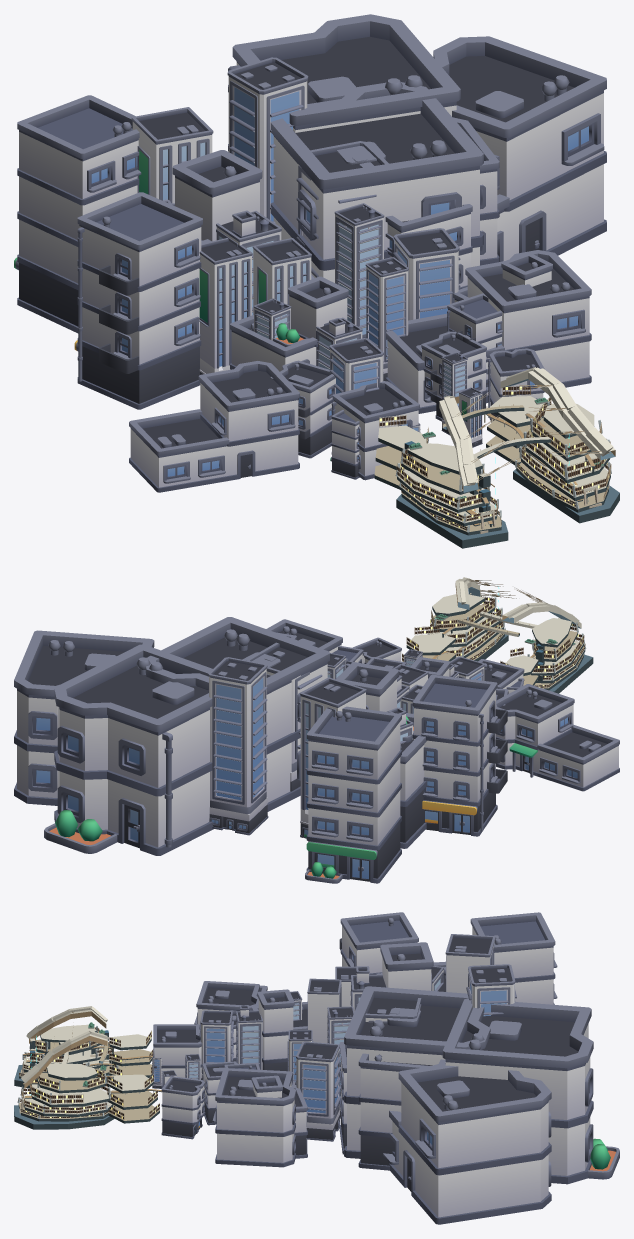
The model's file is G4E7BX_CC0_URBAN_DEPTH_ONLY.glb.
3 renders of one model, top to bottom at view 1: azimuth 30°, elevation 25°; view 2: azimuth 150°, elevation 25°; view 3: azimuth 270°, elevation 25°, orthographic. The views are drawn at different scales.
Parts seen in each view (by area): view 1: Kenney original building-e / articulated site 27, Kenney original building-g / articulated site 32, Kenney original building-c / articulated site 15, Kenney original building-f / articulated site 28, Kenney original building-e / articulated site 30, Kenney original building-c / articulated site 29, Kenney original building-e / articulated site 7, Kenney original building-skyscraper-b / articulated site 17, Kenney original building-d / articulated site 8, Kenney original building-skyscraper-e / articulated site 24, Kenney original building-d / articulated site 14, Kenney original building-skyscraper-e / articulated site 16 (+34 smaller); view 2: Kenney original building-c / articulated site 29, Kenney original building-f / articulated site 28, Kenney original building-g / articulated site 32, Kenney original building-c / articulated site 15, Kenney original building-skyscraper-b / articulated site 17, Kenney original building-e / articulated site 27, Kenney original building-e / articulated site 30, Kenney original building-d / articulated site 14, Kenney original building-skyscraper-e / articulated site 16, Kenney original building-skyscraper-a / articulated site 13, Kenney original building-e / articulated site 7, Kenney original building-c / articulated site 2 (+13 smaller); view 3: Kenney original building-e / articulated site 27, Kenney original building-c / articulated site 29, Kenney original building-c / articulated site 15, Kenney original building-e / articulated site 7, Kenney original building-f / articulated site 28, Kenney original building-a / articulated site 33, Kenney original building-skyscraper-a / articulated site 23, Kenney original building-g / articulated site 32, Kenney original building-d / articulated site 8, Kenney original building-d / articulated site 14, Kenney original building-a / articulated site 19, Kenney original building-skyscraper-e / articulated site 16 (+29 smaller).
Part boxes in pixels (x1=…): Kenney original building-e / articulated site 27: x1=433, y1=36, x2=606, y2=261; Kenney original building-g / articulated site 32: x1=74, y1=192, x2=202, y2=409; Kenney original building-c / articulated site 15: x1=270, y1=82, x2=483, y2=282; Kenney original building-f / articulated site 28: x1=14, y1=95, x2=141, y2=333; Kenney original building-e / articulated site 30: x1=129, y1=361, x2=299, y2=492; Kenney original building-c / articulated site 29: x1=228, y1=14, x2=460, y2=151; Kenney original building-e / articulated site 7: x1=385, y1=250, x2=591, y2=413; Kenney original building-skyscraper-b / articulated site 17: x1=227, y1=57, x2=308, y2=223; Kenney original building-d / articulated site 8: x1=230, y1=276, x2=348, y2=371; Kenney original building-skyscraper-e / articulated site 24: x1=199, y1=238, x2=252, y2=374; Kenney original building-d / articulated site 14: x1=172, y1=150, x2=262, y2=243; Kenney original building-skyscraper-e / articulated site 16: x1=131, y1=107, x2=213, y2=203; Kenney original building-c / articulated site 29: x1=44, y1=644, x2=213, y2=855; Kenney original building-f / articulated site 28: x1=305, y1=706, x2=401, y2=883; Kenney original building-g / articulated site 32: x1=412, y1=674, x2=507, y2=836; Kenney original building-c / articulated site 15: x1=145, y1=617, x2=329, y2=811; Kenney original building-skyscraper-b / articulated site 17: x1=208, y1=657, x2=268, y2=835; Kenney original building-e / articulated site 27: x1=14, y1=630, x2=154, y2=805; Kenney original building-e / articulated site 30: x1=496, y1=684, x2=619, y2=791; Kenney original building-d / articulated site 14: x1=336, y1=662, x2=427, y2=848; Kenney original building-skyscraper-e / articulated site 16: x1=300, y1=677, x2=366, y2=838; Kenney original building-skyscraper-a / articulated site 13: x1=246, y1=642, x2=322, y2=791; Kenney original building-e / articulated site 7: x1=266, y1=619, x2=342, y2=653; Kenney original building-c / articulated site 2: x1=478, y1=659, x2=524, y2=688; Kenney original building-e / articulated site 27: x1=383, y1=1064, x2=551, y2=1224; Kenney original building-c / articulated site 29: x1=442, y1=998, x2=619, y2=1184; Kenney original building-c / articulated site 15: x1=344, y1=986, x2=490, y2=1158; Kenney original building-e / articulated site 7: x1=212, y1=1068, x2=296, y2=1167; Kenney original building-f / articulated site 28: x1=470, y1=912, x2=557, y2=1004; Kenney original building-a / articulated site 33: x1=358, y1=1053, x2=445, y2=1170; Kenney original building-skyscraper-a / articulated site 23: x1=295, y1=1041, x2=340, y2=1141; Kenney original building-g / articulated site 32: x1=339, y1=912, x2=418, y2=974; Kenney original building-d / articulated site 8: x1=251, y1=989, x2=307, y2=1071; Kenney original building-d / articulated site 14: x1=376, y1=942, x2=445, y2=991; Kenney original building-a / articulated site 19: x1=161, y1=1076, x2=205, y2=1139; Kenney original building-skyscraper-e / articulated site 16: x1=445, y1=934, x2=495, y2=993.
Size of the model in its own units: 1763 by 559 by 2123.
29 materials, 13 textured.
